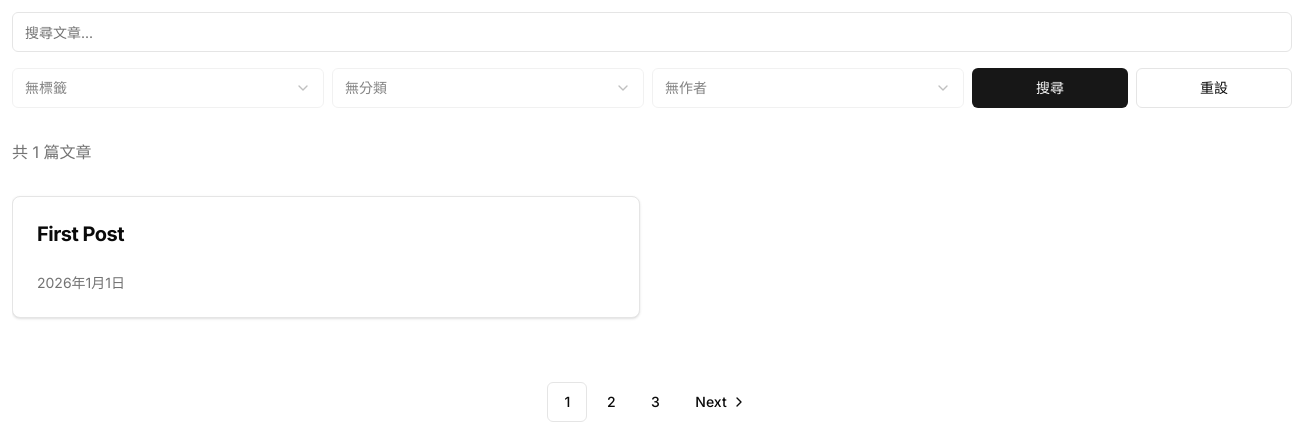
Test: PostsClient › renders pagination and requests the target page on click
Check: the navigation bar named "pagination" is shown, box x1=547 y1=382 x2=747 y2=422
Click the link "2".
click(611, 401)  # box x1=607 y1=392 x2=616 y2=410
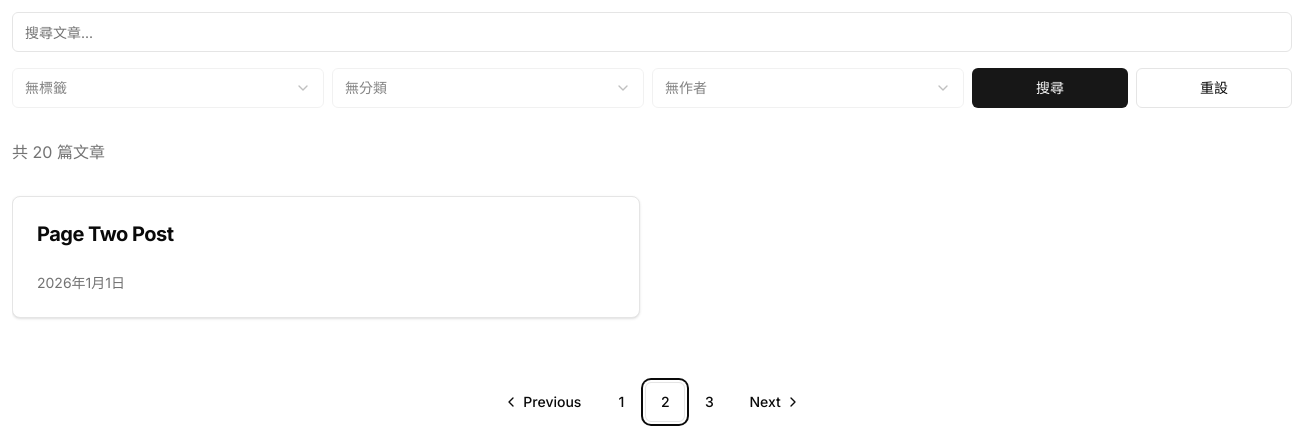
Check: the link "Page Two Post 2026年1月1日" is shown, box x1=12 y1=196 x2=640 y2=318
